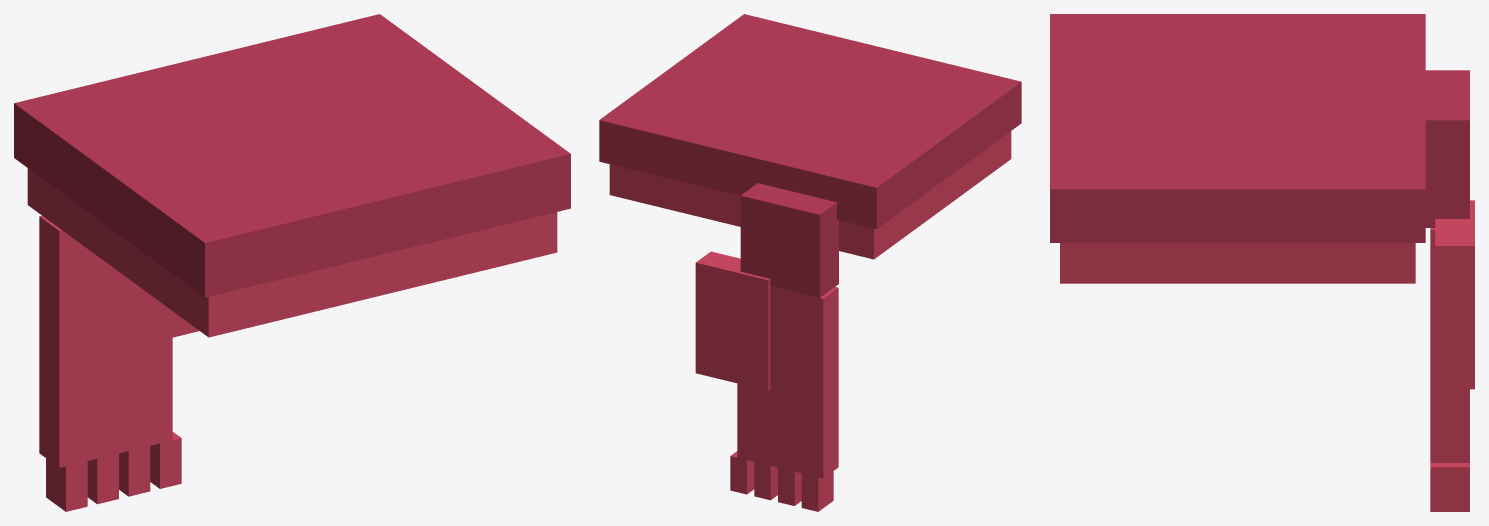
File: cachecol_curto_vermelho.glb
3 views of the same model, side by side, from view 1: azimuth 30°, elevation 25°; view 2: azimuth 150°, elevation 25°; view 3: azimuth 270°, elevation 25° (orthographic). The views are drawn at different scales.
Parts seen in each view (by area): view 1: cachecol_curto_vermelho; view 2: cachecol_curto_vermelho; view 3: cachecol_curto_vermelho.
Boxes of the visible parts, left/top/right/bottom form: cachecol_curto_vermelho: left=14, top=14, right=570, bottom=511; cachecol_curto_vermelho: left=599, top=14, right=1021, bottom=511; cachecol_curto_vermelho: left=1050, top=14, right=1474, bottom=511.
Bounding box in the file's own units: 0.42 × 0.465 × 0.43.
